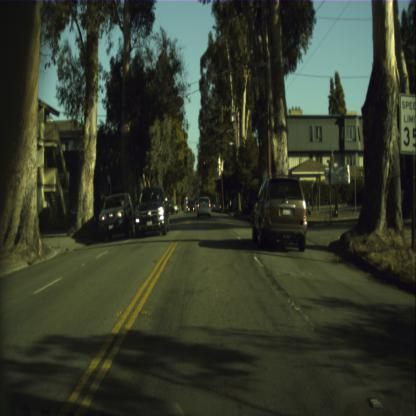Red: (202, 160, 206, 170)
